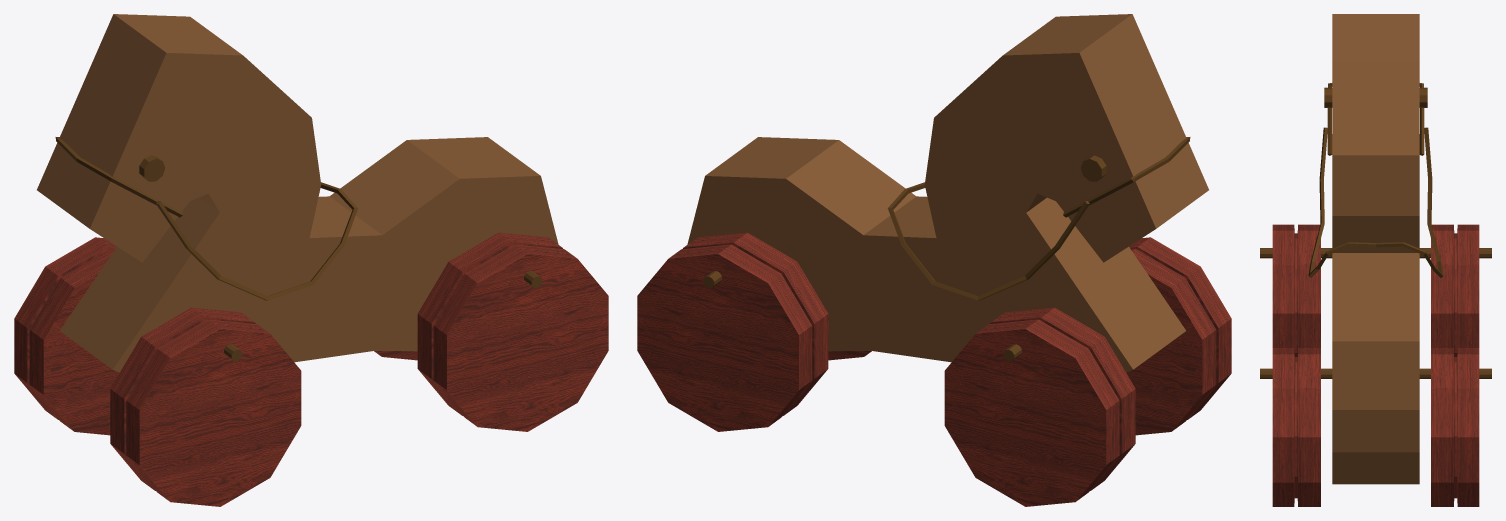
The model's file is ToyHorse.fbx.
3 views of the same model, side by side, from view 1: azimuth 30°, elevation 25°; view 2: azimuth 150°, elevation 25°; view 3: azimuth 270°, elevation 25° (orthographic). The views are drawn at different scales.
Parts seen in each view (by area): view 1: Plane; view 2: Plane; view 3: Plane.
Boxes of the visible parts, x1,y1,x2,y2 form: Plane: (14,14,608,506); Plane: (637,14,1231,506); Plane: (1260,14,1491,506).
Bounding box in the file's own units: 49.57 × 42.39 × 25.01.
3 materials, 2 textured.
